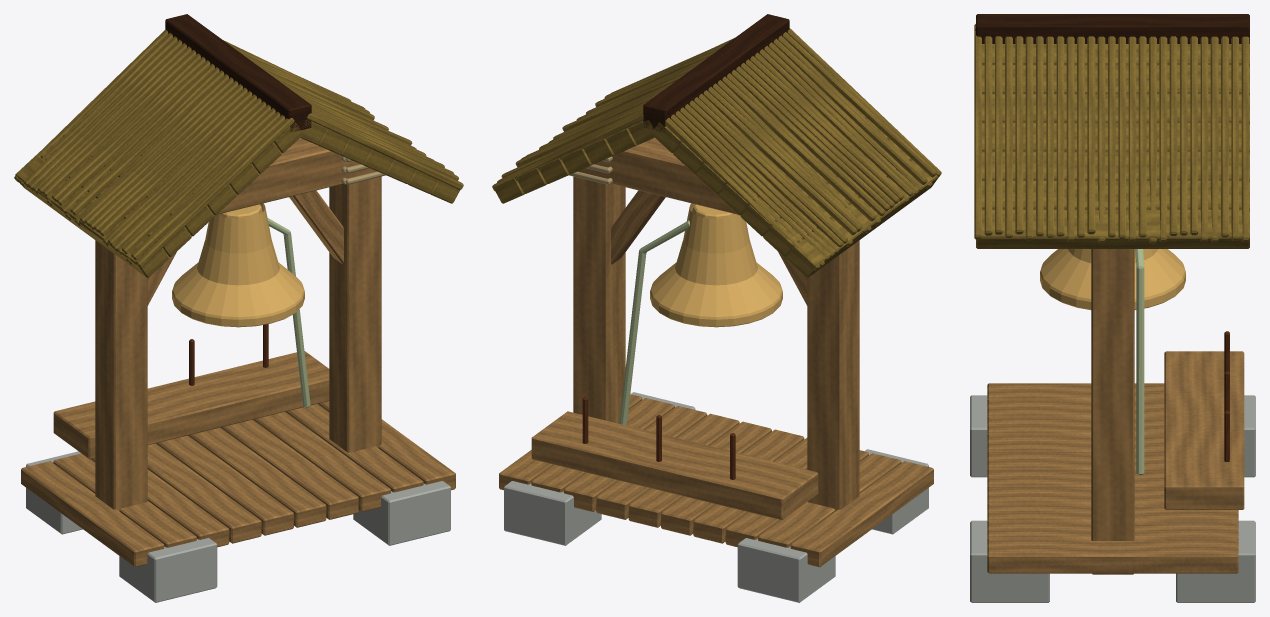
Rendered from FireBell_Folktails.glb.
3 views of the same model, side by side, from view 1: azimuth 30°, elevation 25°; view 2: azimuth 150°, elevation 25°; view 3: azimuth 270°, elevation 25° (orthographic). The views are drawn at different scales.
Parts seen in each view (by area): view 1: Upright.001, Upright, Bucket shelf, Flared bell, Deck plank, Ridge, Bell crossbar, Foot, Foot.002, Deck plank.004, Deck plank.005, Deck plank.006 (+41 smaller); view 2: Bucket shelf, Upright, Upright.001, Flared bell, Deck plank, Ridge, Bell crossbar, Foot.001, Foot.003, Deck plank.001, Roof shingle.006, Deck plank.006 (+43 smaller); view 3: Upright.001, Bucket shelf, Deck plank.009, Ridge, Roof shingle.013, Flared bell, Deck plank.008, Deck plank.007, Foot.002, Foot.003, Roof shingle.012, Roof shingle.011 (+41 smaller).
Part boxes in pixels (x1,y1,x2,y2): Upright.001: (329,176,381,452); Upright: (95,240,147,511); Bucket shelf: (53,351,329,459); Flared bell: (172,203,304,327); Deck plank: (21,461,164,567); Ridge: (165,14,311,132); Bell crossbar: (217,138,376,214); Foot: (119,538,217,602); Foot.002: (353,481,450,545); Deck plank.004: (156,435,293,535); Deck plank.005: (188,427,326,527); Deck plank.006: (221,419,358,519); Bucket shelf: (531,411,818,519); Upright: (807,240,859,511); Upright.001: (573,176,625,423); Flared bell: (650,203,782,327); Deck plank: (790,461,933,567); Ridge: (643,14,789,132); Bell crossbar: (577,138,737,214); Foot.001: (737,538,835,602); Foot.003: (504,481,601,545); Deck plank.001: (758,453,901,547); Roof shingle.006: (785,159,939,277); Deck plank.006: (596,413,739,519); Upright.001: (1091,249,1134,574); Bucket shelf: (1164,351,1244,509); Deck plank.009: (987,539,1238,573); Ridge: (976,14,1249,43); Roof shingle.013: (976,209,1249,248); Flared bell: (1040,249,1185,309); Deck plank.008: (987,522,1238,540); Deck plank.007: (987,505,1238,523); Foot.002: (970,520,1049,602); Foot.003: (1176,520,1255,602); Roof shingle.012: (982,180,1249,210); Roof shingle.011: (982,151,1249,181).
Size of the model in its own units: 1.81 by 2.44 by 1.25.
9 materials, 4 textured.
